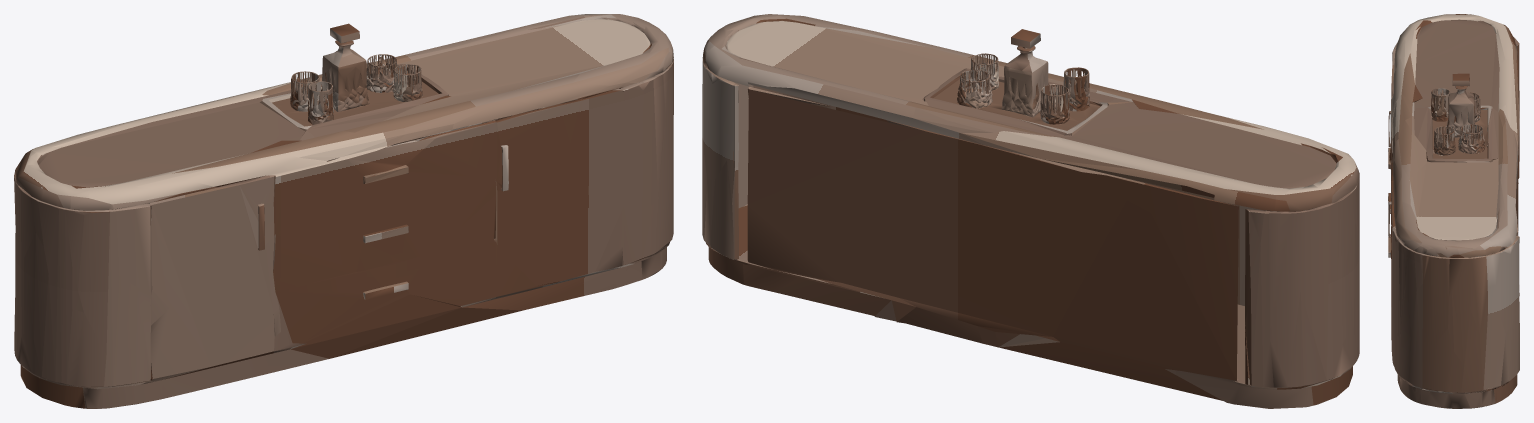
File: cab_credenza.glb
The picture shows the model from 3 angles, left to right: view 1: azimuth 30°, elevation 25°; view 2: azimuth 150°, elevation 25°; view 3: azimuth 270°, elevation 25°; orthographic projection. The views are drawn at different scales.
Visible parts, largest first — view 1: LO; view 2: LO; view 3: LO.
Boxes of the visible parts, left/top/right/bottom form: LO: left=14, top=14, right=673, bottom=408; LO: left=702, top=14, right=1359, bottom=408; LO: left=1388, top=14, right=1519, bottom=408.
Size of the model in its own units: 1.87 by 0.7994 by 0.4402.
1 material, 1 textured.
